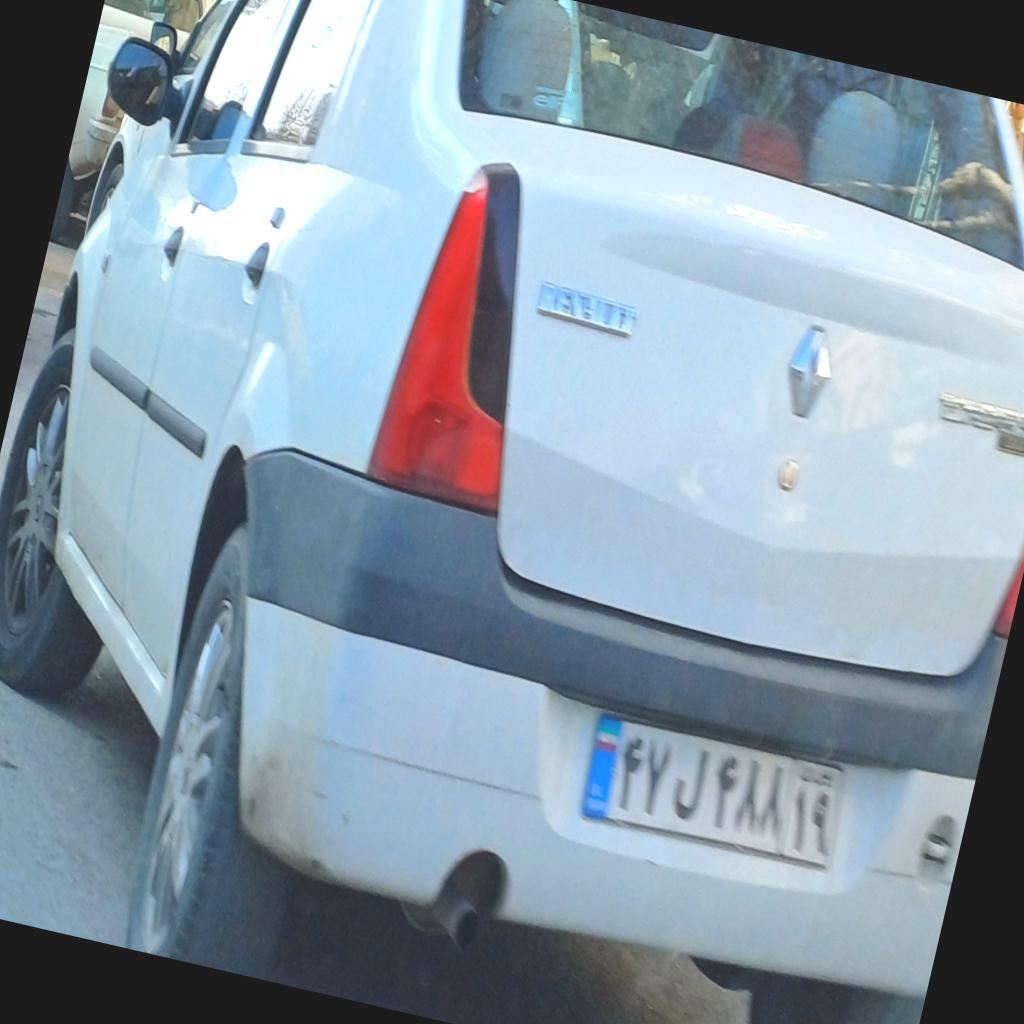Plates: (577, 710, 853, 872)
